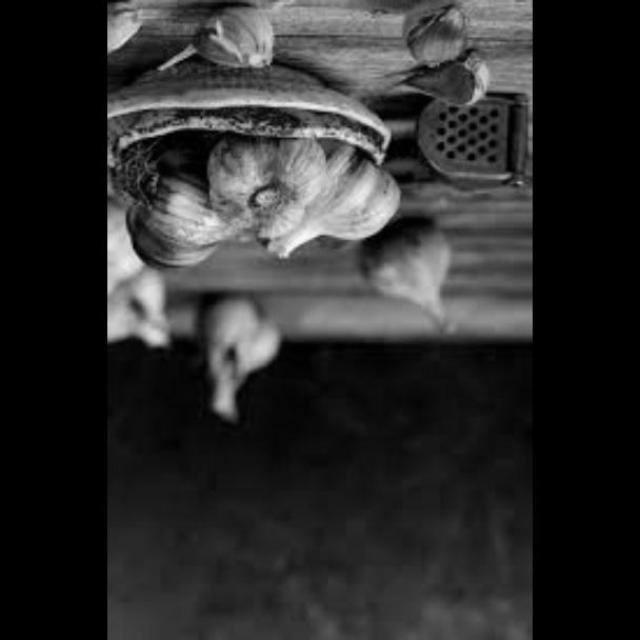garlic: (360, 204, 478, 368), (255, 139, 398, 267), (123, 150, 243, 270), (200, 286, 300, 421), (200, 142, 324, 246), (185, 4, 291, 80), (108, 254, 180, 363), (396, 55, 490, 116), (394, 8, 472, 70)
